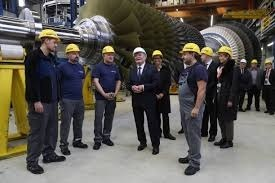helmet: (180, 42, 200, 54), (38, 28, 55, 39), (65, 43, 80, 55), (131, 47, 148, 57), (101, 44, 117, 54), (217, 46, 232, 54), (202, 46, 213, 55), (152, 50, 161, 57)
person with full safety: (126, 44, 162, 151)
person with partial safety: (25, 26, 63, 162), (178, 40, 207, 173), (59, 42, 88, 147), (95, 42, 123, 149), (216, 45, 241, 147), (151, 49, 175, 141)
